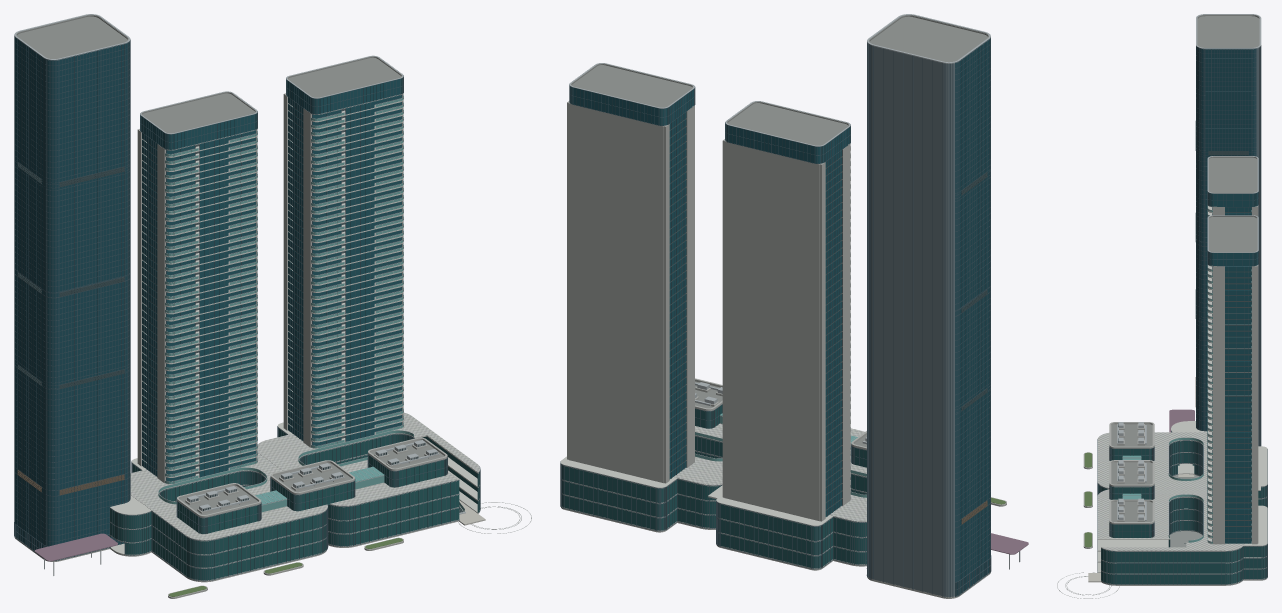
Rendered from detail.glb.
3 views of the same model, side by side, from view 1: azimuth 30°, elevation 25°; view 2: azimuth 150°, elevation 25°; view 3: azimuth 270°, elevation 25° (orthographic). The views are drawn at different scales.
Parts seen in each view (by area): view 1: OFFICE canopy ribs, OFFICE finite blue glazing, RESIDENTIAL MID central glazing, PODIUM 1 open-court slabs, PODIUM 1 external storefront glass, PODIUM 1 roof court guard, OFFICE neutral foundation plinth, OFFICE canopy posts, OFFICE inner roof return CLOSURE_HOLD, PODIUM 1 procedural roof paving finish, OFFICE inner core NOT_INTERIOR, OFFICE upper charcoal louver blades (+1 smaller); view 2: OFFICE neutral foundation plinth, OFFICE local rear neutral CLOSURE_HOLD panels, OFFICE canopy ribs, OFFICE finite blue glazing, RESIDENTIAL MID central glazing, PODIUM 1 external storefront glass, OFFICE inner roof return CLOSURE_HOLD, PODIUM 1 open-court slabs, OFFICE inner core NOT_INTERIOR, OFFICE canopy posts, PODIUM 1 procedural roof paving finish; view 3: OFFICE canopy ribs, OFFICE finite blue glazing, PODIUM 1 external storefront glass, RESIDENTIAL MID central glazing, OFFICE inner roof return CLOSURE_HOLD, OFFICE neutral foundation plinth, PODIUM 1 procedural roof paving finish, PODIUM 1 open-court slabs, OFFICE canopy posts, OFFICE inner core NOT_INTERIOR, PODIUM 1 roof court guard, OFFICE local rear neutral CLOSURE_HOLD panels (+4 smaller).
Boxes of the visible parts, bbox=[...] form: OFFICE canopy ribs: bbox=[14, 35, 480, 581]; OFFICE finite blue glazing: bbox=[15, 37, 129, 557]; RESIDENTIAL MID central glazing: bbox=[140, 78, 402, 481]; PODIUM 1 open-court slabs: bbox=[110, 94, 480, 581]; PODIUM 1 external storefront glass: bbox=[110, 429, 479, 580]; PODIUM 1 roof court guard: bbox=[158, 95, 464, 512]; OFFICE neutral foundation plinth: bbox=[15, 93, 478, 598]; OFFICE canopy posts: bbox=[14, 14, 465, 575]; OFFICE inner roof return CLOSURE_HOLD: bbox=[16, 15, 444, 514]; PODIUM 1 procedural roof paving finish: bbox=[130, 412, 479, 540]; OFFICE inner core NOT_INTERIOR: bbox=[60, 107, 345, 489]; OFFICE upper charcoal louver blades: bbox=[17, 162, 464, 512]; OFFICE neutral foundation plinth: bbox=[561, 101, 1006, 598]; OFFICE local rear neutral CLOSURE_HOLD panels: bbox=[868, 44, 954, 596]; OFFICE canopy ribs: bbox=[560, 37, 991, 597]; OFFICE finite blue glazing: bbox=[955, 39, 990, 595]; RESIDENTIAL MID central glazing: bbox=[570, 86, 850, 516]; PODIUM 1 external storefront glass: bbox=[562, 405, 866, 568]; OFFICE inner roof return CLOSURE_HOLD: bbox=[571, 15, 988, 447]; PODIUM 1 open-court slabs: bbox=[560, 106, 866, 569]; OFFICE inner core NOT_INTERIOR: bbox=[669, 118, 841, 510]; OFFICE canopy posts: bbox=[569, 14, 1020, 569]; PODIUM 1 procedural roof paving finish: bbox=[674, 423, 866, 521]; OFFICE canopy ribs: bbox=[1097, 45, 1267, 584]; OFFICE finite blue glazing: bbox=[1196, 47, 1256, 431]; PODIUM 1 external storefront glass: bbox=[1098, 441, 1266, 584]; RESIDENTIAL MID central glazing: bbox=[1208, 192, 1258, 543]; OFFICE inner roof return CLOSURE_HOLD: bbox=[1111, 15, 1259, 521]; OFFICE neutral foundation plinth: bbox=[1083, 206, 1266, 585]; PODIUM 1 procedural roof paving finish: bbox=[1097, 432, 1243, 550]; PODIUM 1 open-court slabs: bbox=[1097, 206, 1267, 585]; OFFICE canopy posts: bbox=[1117, 14, 1261, 543]; OFFICE inner core NOT_INTERIOR: bbox=[1225, 207, 1251, 540]; PODIUM 1 roof court guard: bbox=[1122, 205, 1212, 543]; OFFICE local rear neutral CLOSURE_HOLD panels: bbox=[1256, 48, 1259, 445].
Bounding box in the file's own units: 89.7 × 100 × 45.86.
Materials: 18 (1 with a texture image).
